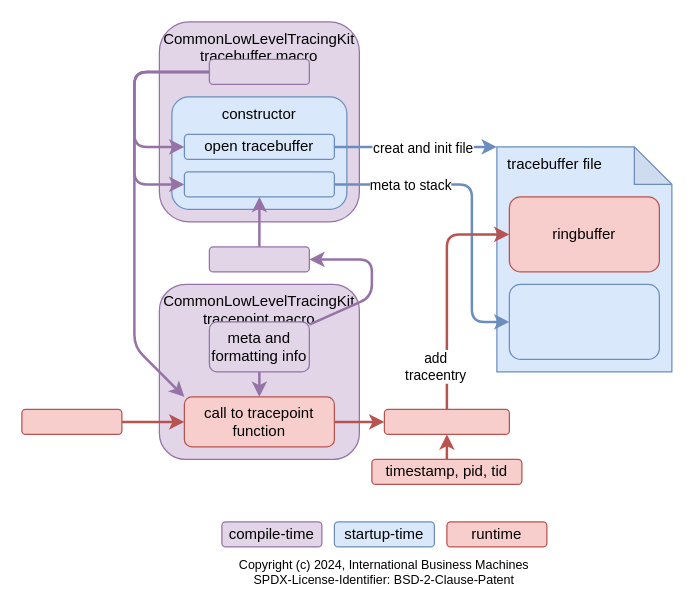
The diagram is 694 pixels wide and 609 high, and some of its shapes have lost their labels. Each missing label, with the centre of its shape:
add meta to stack: (258,184)
arguments: (71,421)
create traceentry: (446,421)
handler: (258,71)
meta data: (258,259)
stack: (583,321)
